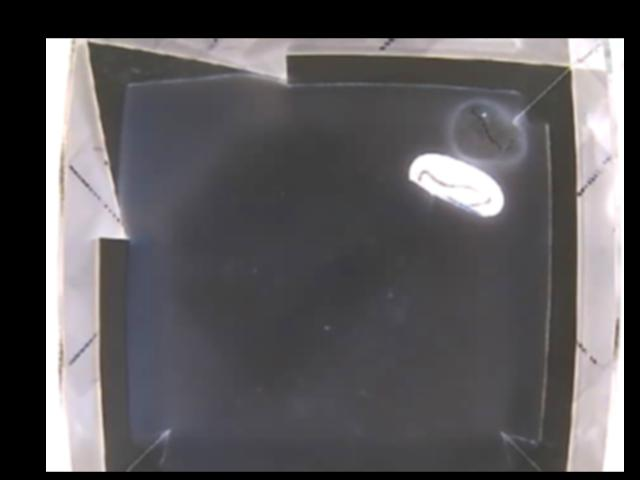Pebble: (405, 153, 501, 218), (452, 102, 522, 162)
